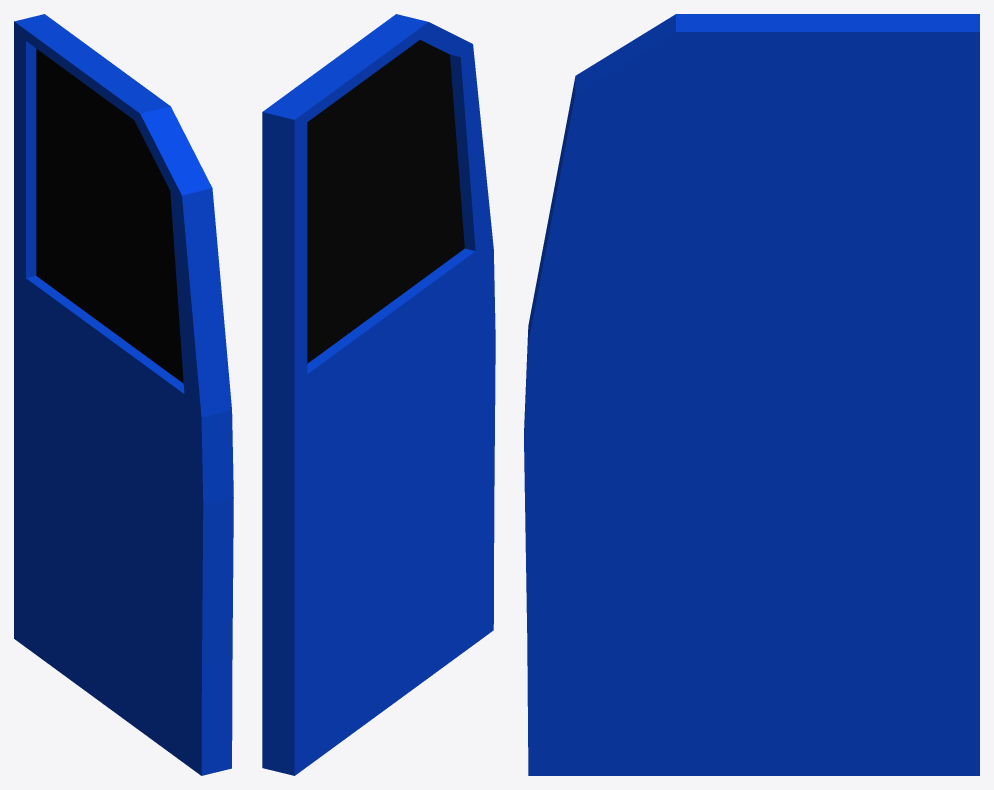
Rendered from CarDoor_2.fbx.
The picture shows the model from 3 angles, left to right: view 1: azimuth 30°, elevation 25°; view 2: azimuth 150°, elevation 25°; view 3: azimuth 270°, elevation 25°; orthographic projection. The views are drawn at different scales.
Visible parts, largest first — view 1: Door.001; view 2: Door.001; view 3: Door.001.
Boxes of the visible parts, <box> form: Door.001: <box>14,14,233,775</box>; Door.001: <box>262,14,495,775</box>; Door.001: <box>524,14,979,775</box>.
Bounding box in the file's own units: 9.61 × 185 × 103.
